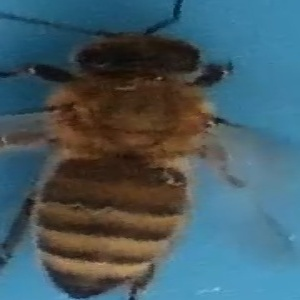bee: (2, 3, 250, 300)
